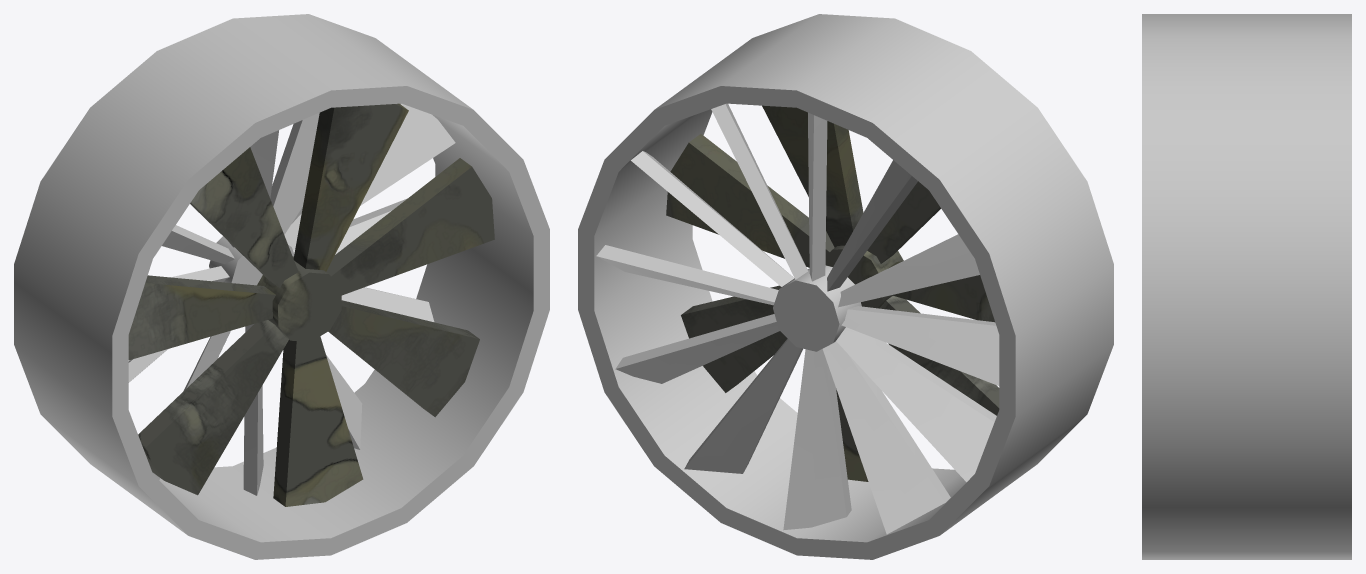
Rendered from Ventilador (1).FBX.
3 renders of one model, left to right at view 1: azimuth 30°, elevation 25°; view 2: azimuth 150°, elevation 25°; view 3: azimuth 270°, elevation 25°, orthographic. The views are drawn at different scales.
Parts seen in each view (by area): view 1: Cylinder003, Object001; view 2: Cylinder003, Object001; view 3: Cylinder003.
Part boxes in pixels (<box>): Cylinder003: <box>14,14,549,559</box>; Object001: <box>128,103,494,506</box>; Cylinder003: <box>578,14,1113,559</box>; Object001: <box>666,105,999,481</box>; Cylinder003: <box>1142,14,1351,559</box>.
Size of the model in its own units: 299 by 303 by 116.
